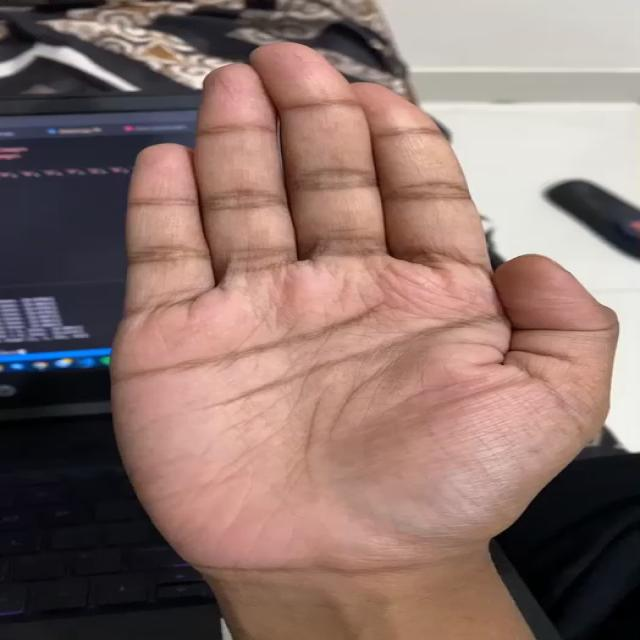no-gloves: (101, 31, 624, 580)
